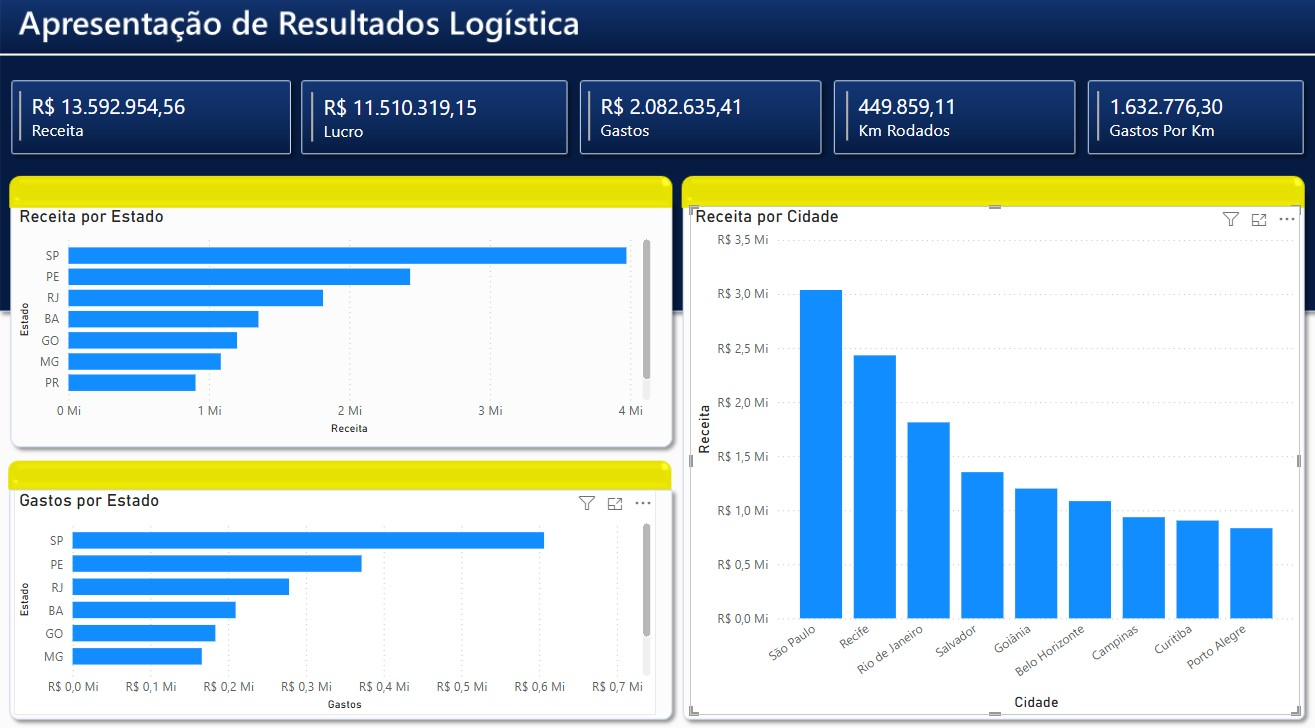

The dashboard page shown, as its layout file describes it:
{"tool":"powerbi","page":{"name":"Página 2","canvas":[1280,720],"ordinal":1},"visuals":[{"type":"multiRowCard","fields":{"Values":["BaseDadosEntregas.Receita"]},"box":[14.6,88.5,250,64.2],"z":0},{"type":"multiRowCard","fields":{"Values":["BaseDadosEntregas.Lucro"]},"box":[298.2,89.2,251.1,64.6],"z":1000},{"type":"multiRowCard","fields":{"Values":["BaseDadosEntregas.Gastos"]},"box":[567.8,88.1,242.9,64.6],"z":2000},{"type":"multiRowCard","fields":{"Values":["BaseDadosEntregas.Km Rodados"]},"box":[818.8,88.1,243.9,64.6],"z":3000},{"type":"multiRowCard","fields":{"Values":["BaseDadosEntregas.Gastos Por Km"]},"box":[1062.7,88.1,210.1,64.6],"z":4000},{"type":"barChart","fields":{"Y":["BaseDadosEntregas.Receita"],"Category":["BaseDadosEntregas.Estado"]},"box":[14.6,205.2,624.4,226.6],"z":5000},{"type":"barChart","fields":{"Category":["BaseDadosEntregas.Estado"],"Y":["BaseDadosEntregas.Gastos"]},"box":[14.6,481.5,624.4,218.8],"z":7000},{"type":"clusteredColumnChart","fields":{"Y":["BaseDadosEntregas.Receita"],"Category":["BaseDadosEntregas.Cidade"]},"box":[672.1,205.2,593.3,495.1],"z":8000}]}

Visuals, with their boxes in screenshot pixels (x1, y1, x2, y2), scaled from the page's 1280x720 canvas onto the 1315x728 screenshot:
multiRowCard - BaseDadosEntregas.Receita: {"x1": 15, "y1": 89, "x2": 272, "y2": 154}
multiRowCard - BaseDadosEntregas.Lucro: {"x1": 306, "y1": 90, "x2": 564, "y2": 156}
multiRowCard - BaseDadosEntregas.Gastos: {"x1": 583, "y1": 89, "x2": 833, "y2": 154}
multiRowCard - BaseDadosEntregas.Km Rodados: {"x1": 841, "y1": 89, "x2": 1092, "y2": 154}
multiRowCard - BaseDadosEntregas.Gastos Por Km: {"x1": 1092, "y1": 89, "x2": 1308, "y2": 154}
barChart - BaseDadosEntregas.Receita x BaseDadosEntregas.Estado: {"x1": 15, "y1": 207, "x2": 656, "y2": 437}
barChart - BaseDadosEntregas.Estado x BaseDadosEntregas.Gastos: {"x1": 15, "y1": 487, "x2": 656, "y2": 708}
clusteredColumnChart - BaseDadosEntregas.Receita x BaseDadosEntregas.Cidade: {"x1": 690, "y1": 207, "x2": 1300, "y2": 708}
